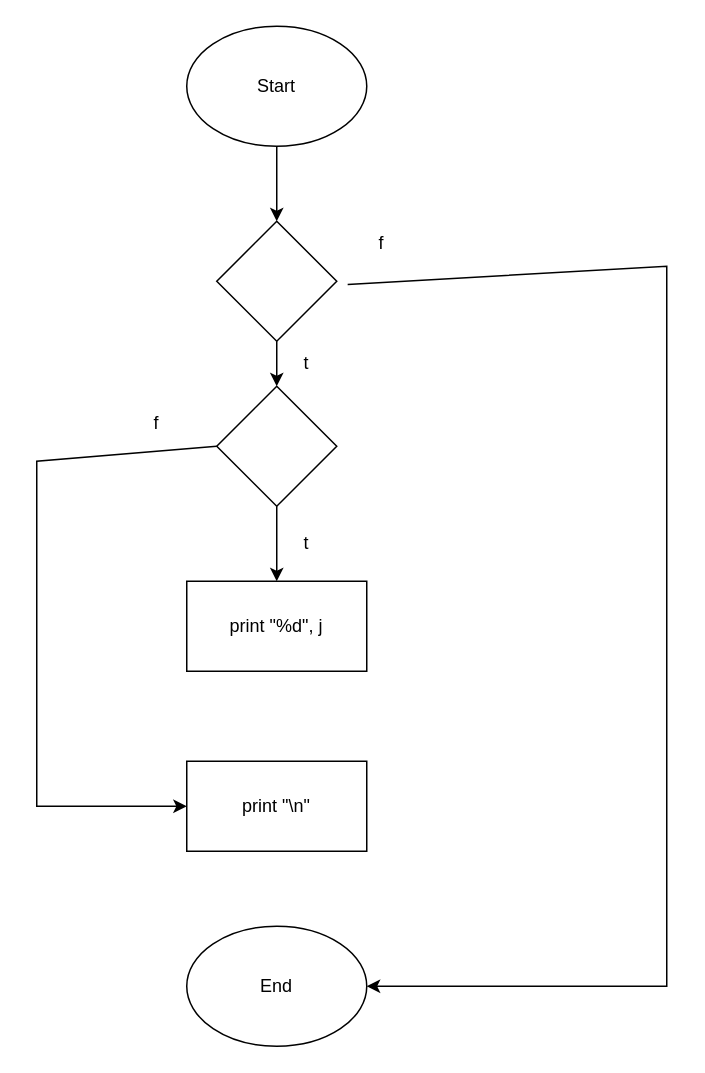
The diagram is 705 pixels wide and 1073 high, and some of its shapes have lost their labels. The shapes that lost their labels are listed below. From the top down, each one's box as (x1, y1, x2, y2) in pixels, then its label:
(215, 220, 337, 341): for(i=4;i>=1;i--
(215, 385, 337, 506): for(j=1;j<=i;j++
